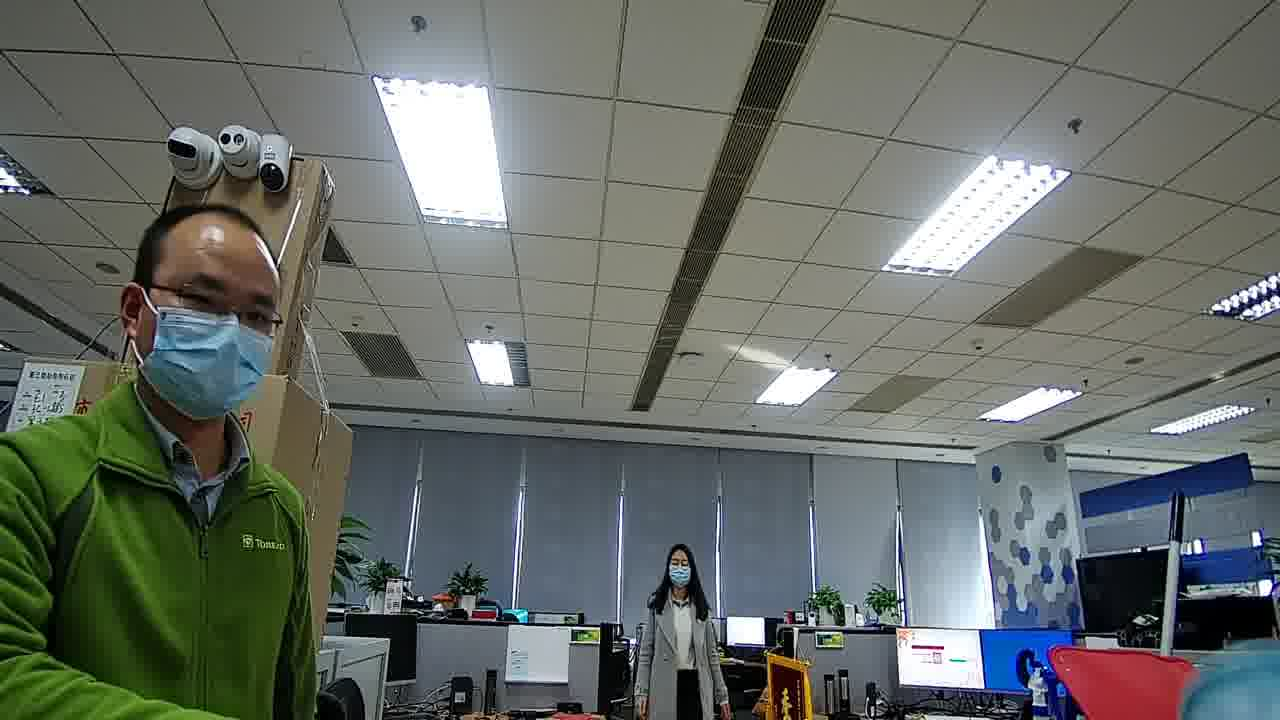face: (124, 236, 282, 427), (665, 553, 691, 587)
mask: (134, 301, 276, 423), (668, 564, 689, 586)
person: (1, 170, 313, 539), (648, 540, 704, 614)
